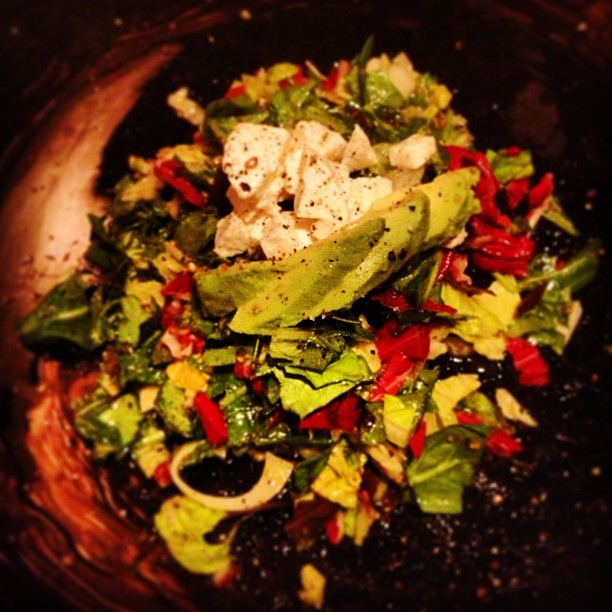chopped lettuce: (109, 292, 498, 549)
